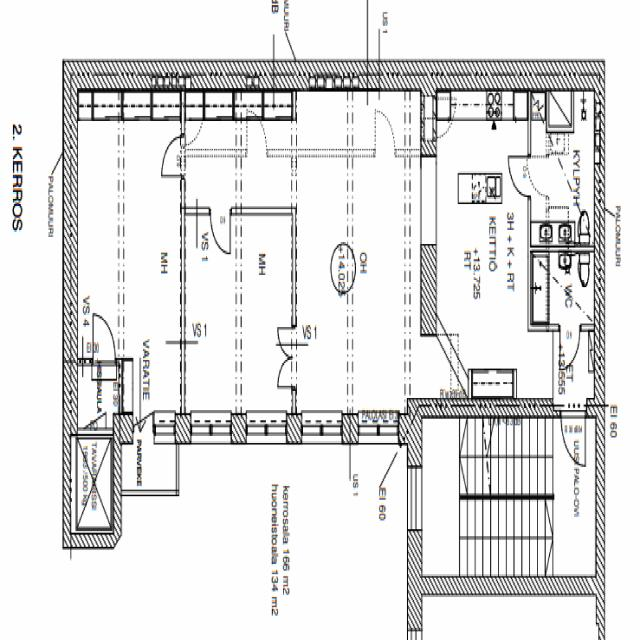door: (560, 398, 586, 468), (133, 374, 153, 443), (83, 382, 107, 438), (92, 312, 116, 364), (560, 322, 581, 374), (160, 135, 186, 176), (210, 203, 230, 253), (507, 155, 532, 195), (276, 326, 296, 356), (276, 356, 296, 386)
